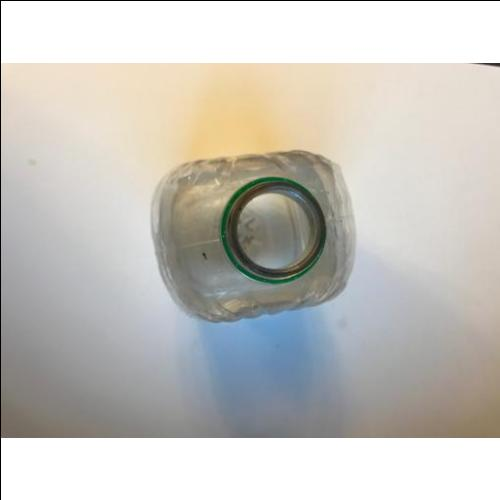plastic: (153, 151, 358, 322)
